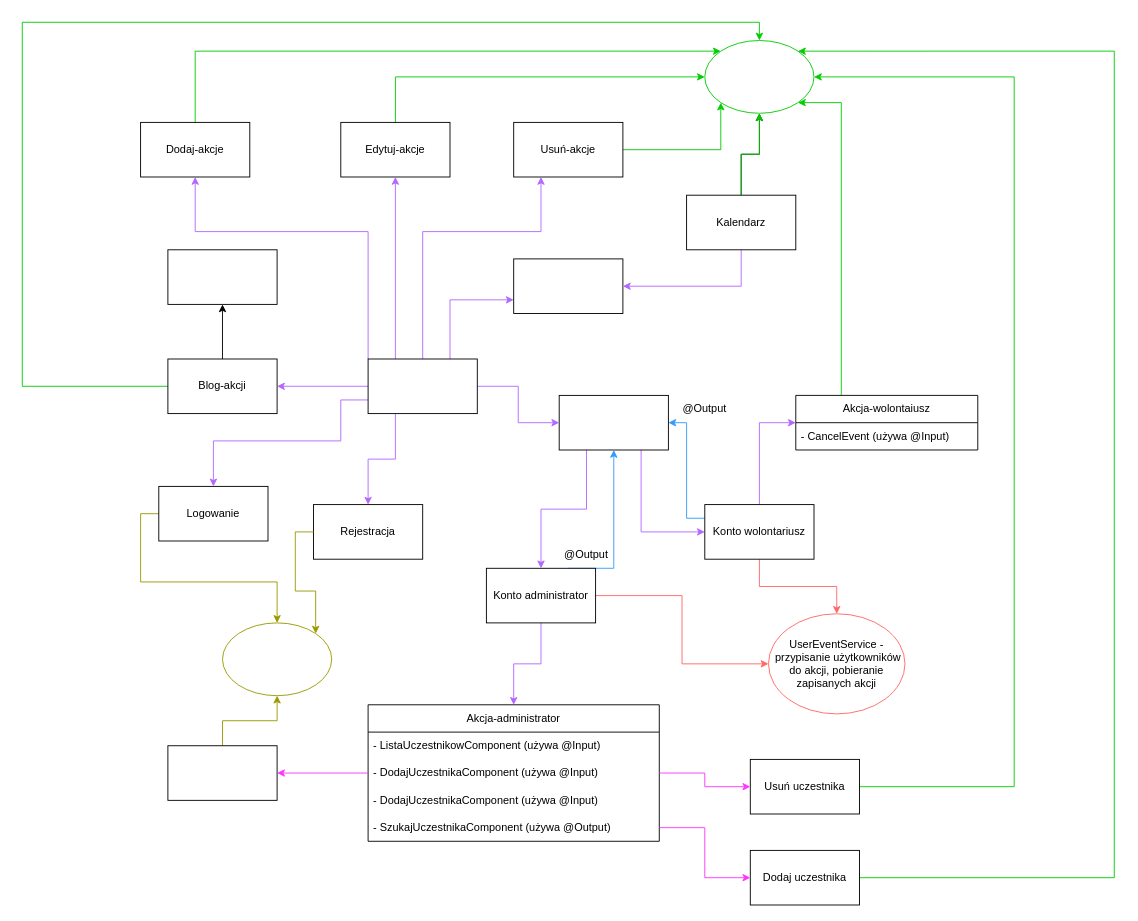
The diagram is 1138 pixels wide and 921 high, and some of its shapes have lost their labels. The shapes that lost their labels are listed below. From the top down, each one's centre as x and y in pixels, then its label:
pixel 759 76: EventService - zarządzanie akcjami
pixel 222 276: Strona-akcji
pixel 568 285: Kalendarz-akcji
pixel 422 386: AppComponent
pixel 613 422: Akcje
pixel 277 659: UserService - zarządzanie danymi użytkowników
pixel 222 772: Lista uczestników
